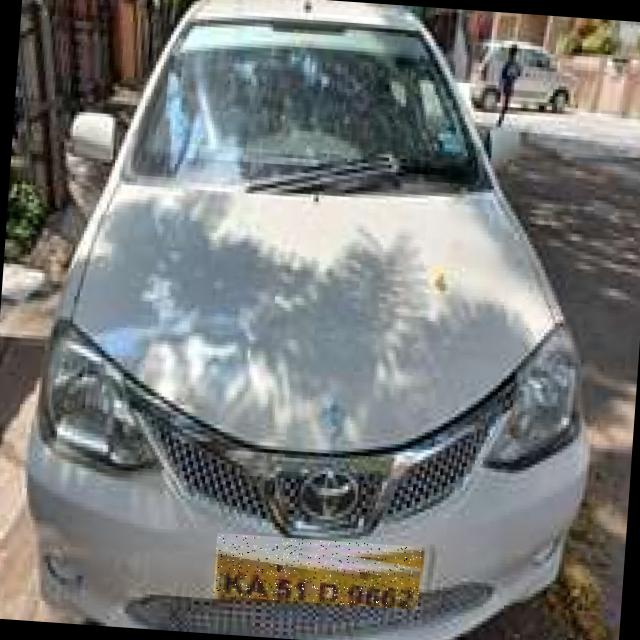Plate: (214, 534, 423, 611)
